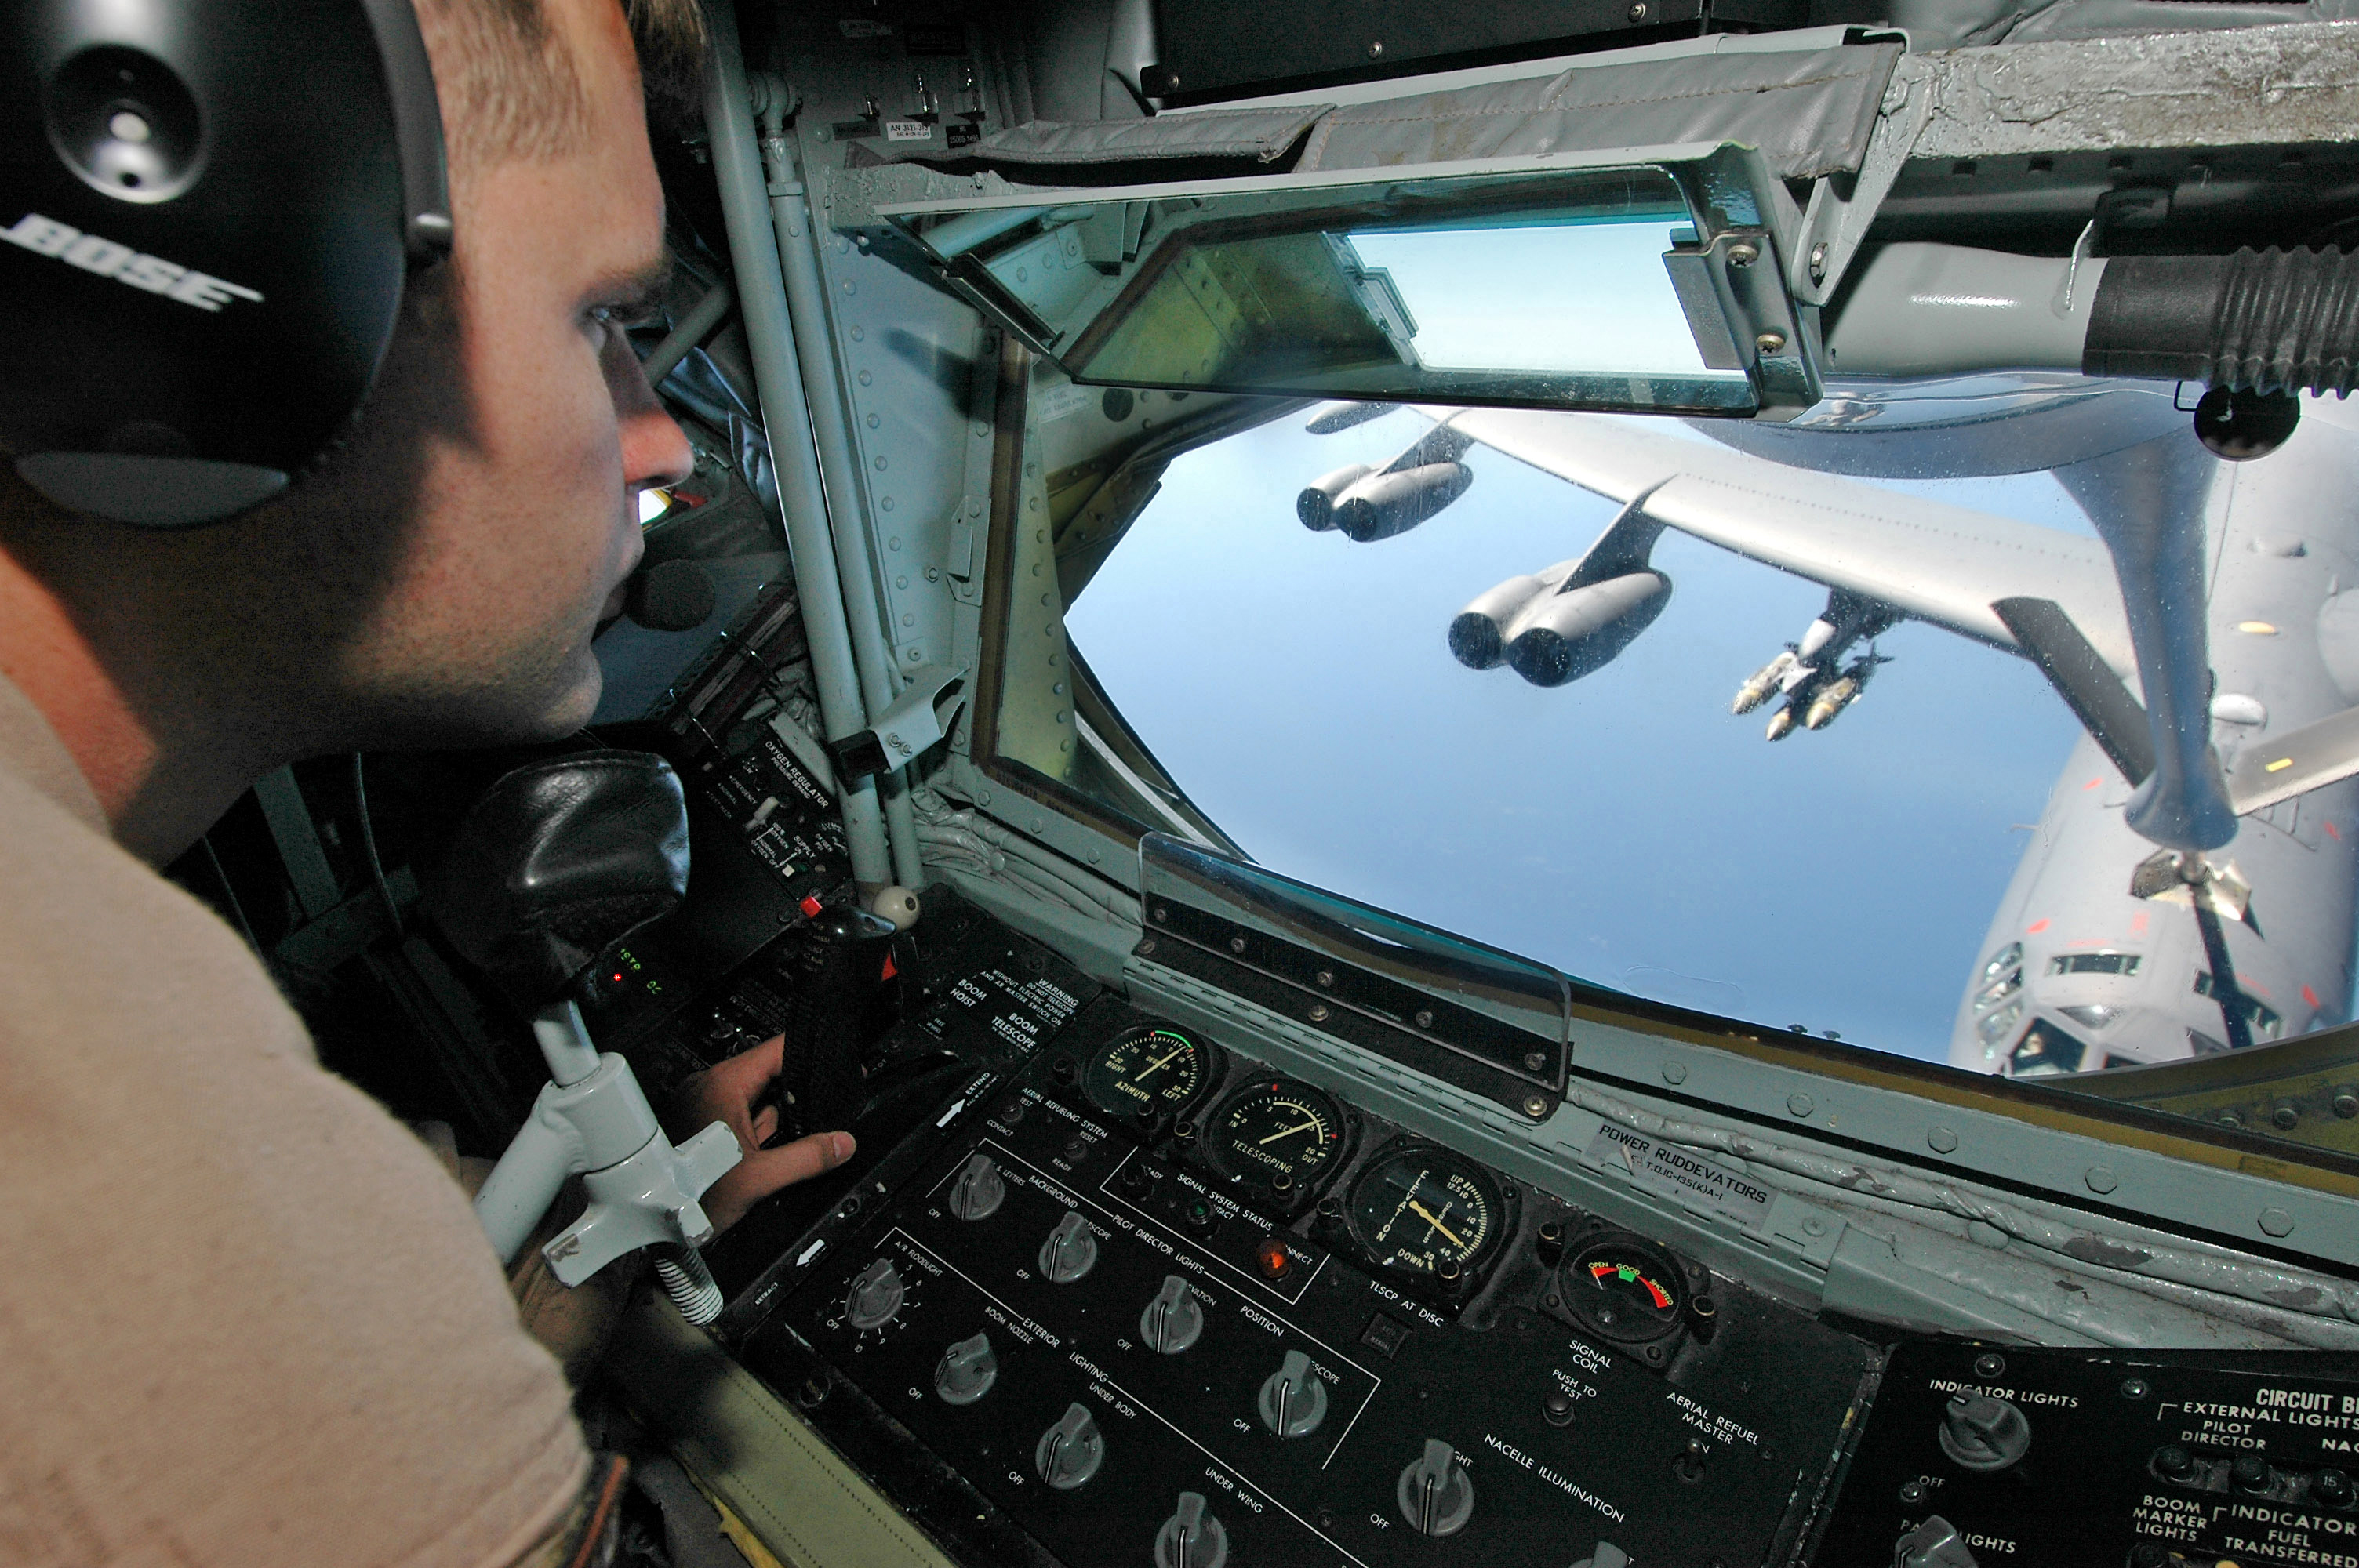B52: (1295, 387, 2359, 1078)
